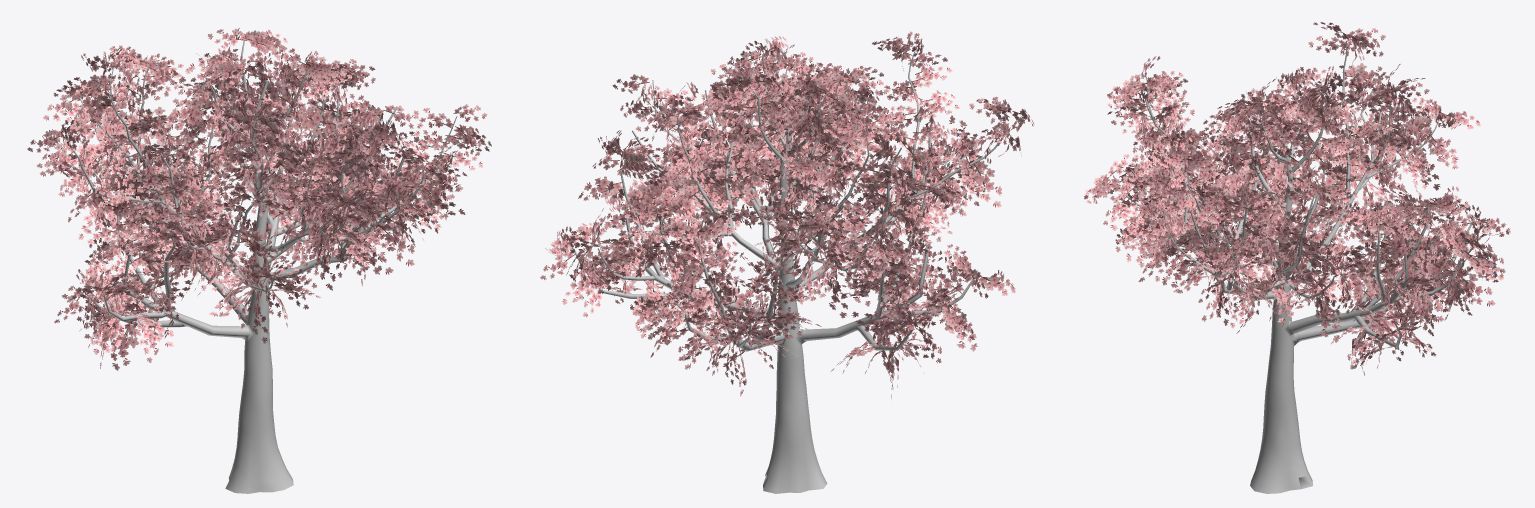
Rendered from sakura_tree.obj.
3 renders of one model, left to right at view 1: azimuth 30°, elevation 25°; view 2: azimuth 150°, elevation 25°; view 3: azimuth 270°, elevation 25°, orthographic. The views are drawn at different scales.
Visible parts, largest first — view 1: Sakura; view 2: Sakura; view 3: Sakura.
Boxes of the visible parts, bbox=[...] form: Sakura: bbox=[27, 28, 491, 493]; Sakura: bbox=[540, 31, 1034, 493]; Sakura: bbox=[1084, 22, 1510, 493].
Bounding box in the file's own units: 0.4036 × 0.4172 × 0.4016.
